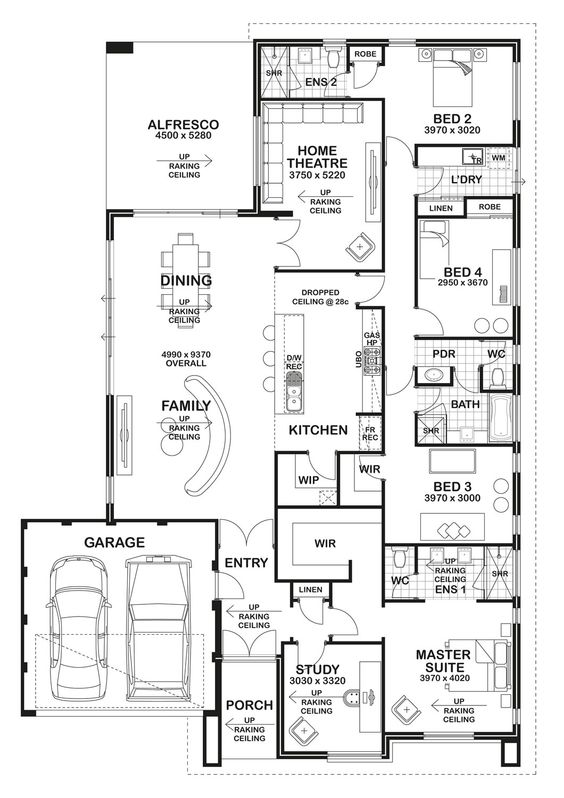door: (219, 625, 277, 657), (215, 517, 276, 547), (275, 217, 305, 269), (292, 644, 326, 676), (383, 133, 415, 165), (414, 163, 446, 195), (415, 305, 447, 337), (354, 272, 386, 304), (383, 366, 415, 398), (307, 450, 339, 482), (214, 571, 246, 603), (295, 593, 327, 625), (328, 606, 360, 638)
room: (382, 600, 522, 740), (413, 193, 521, 340), (381, 38, 521, 147), (381, 444, 521, 547)
